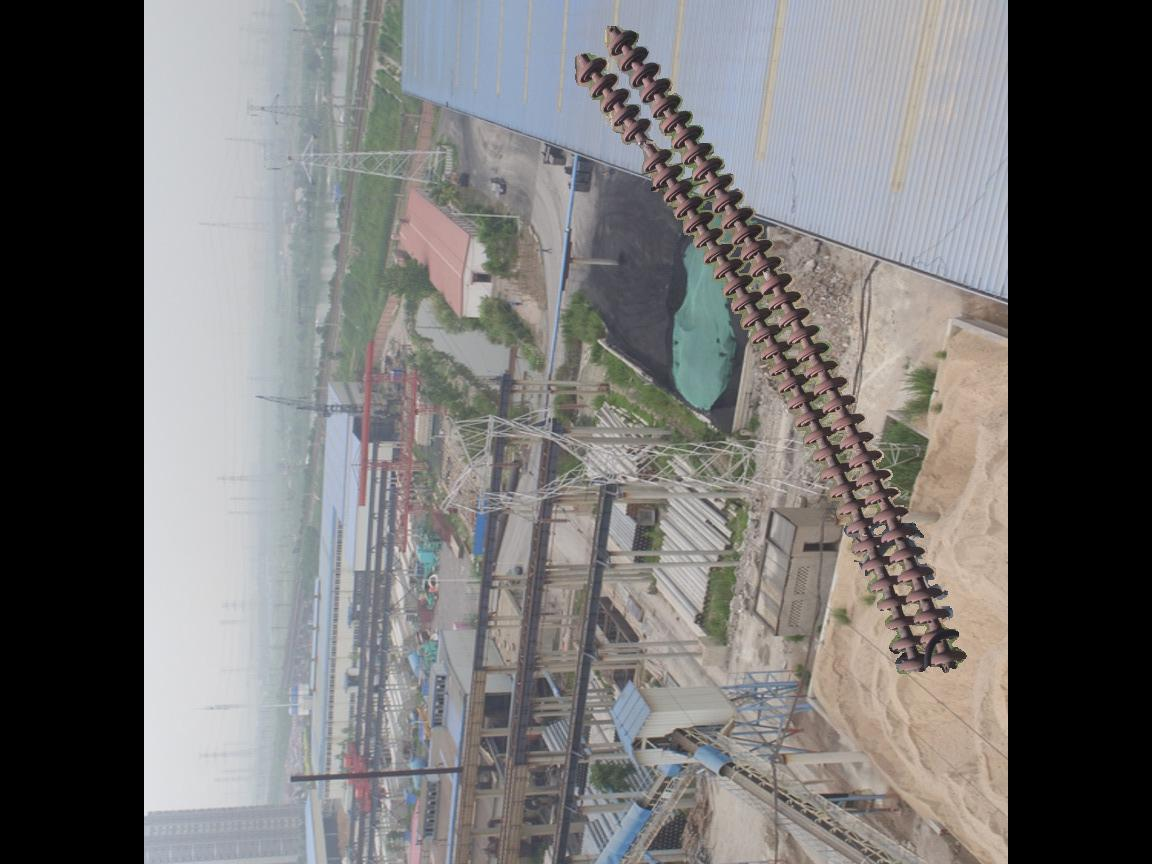insulator: (568, 21, 972, 682)
insulator_stringdrop: (620, 115, 675, 178)
